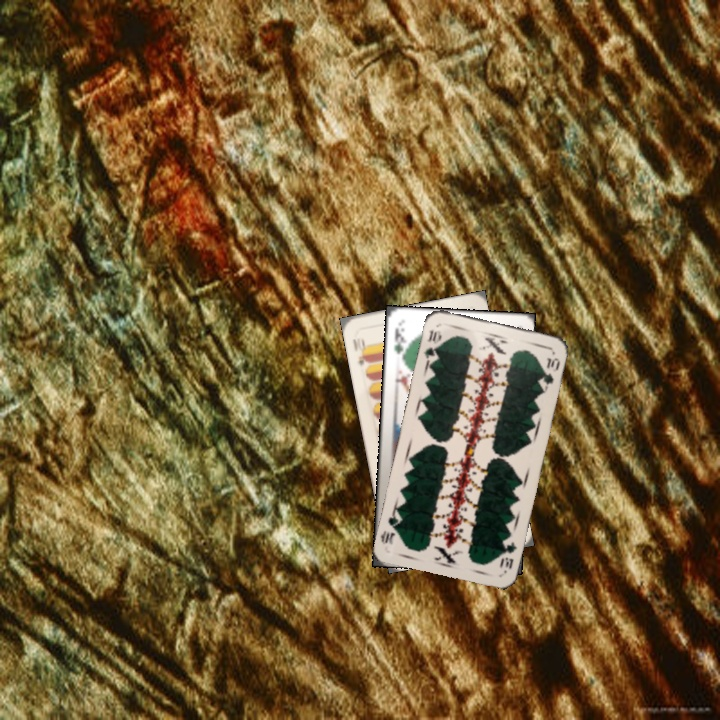E10: (349, 334, 371, 370)
G10: (420, 325, 444, 363), (495, 538, 519, 572)
GK: (389, 323, 408, 362)
